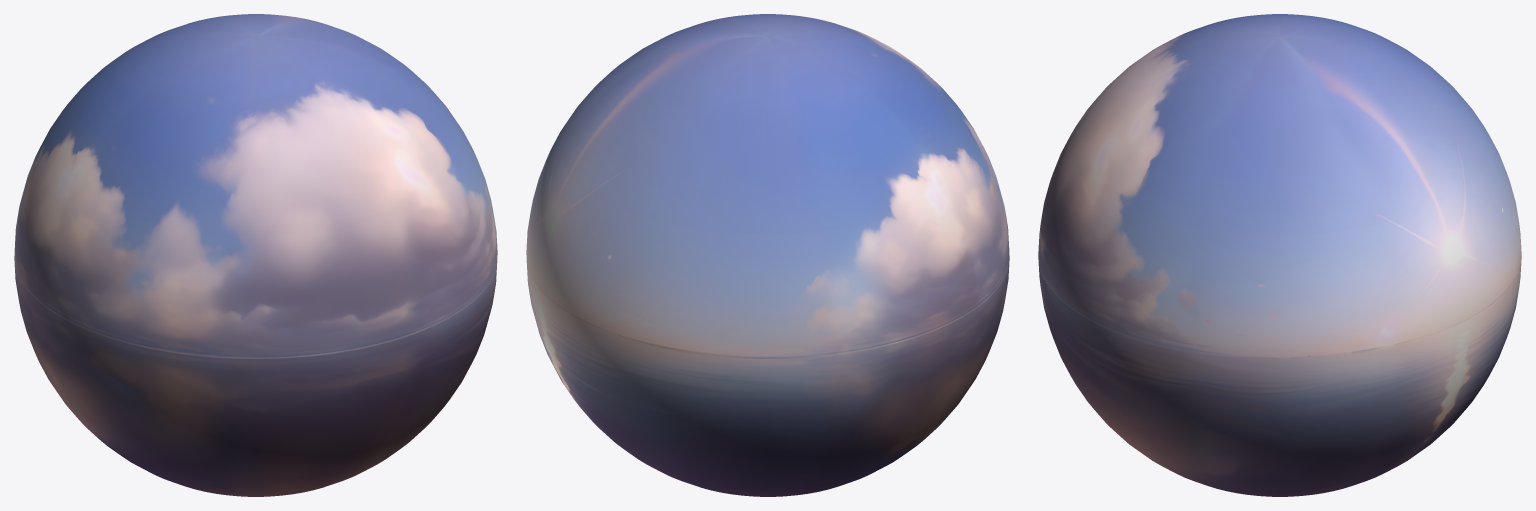
Rendered from skybox.obj.
The picture shows the model from 3 angles, left to right: view 1: azimuth 30°, elevation 25°; view 2: azimuth 150°, elevation 25°; view 3: azimuth 270°, elevation 25°; orthographic projection.
Visible parts, largest first — view 1: Sphere; view 2: Sphere; view 3: Sphere.
Part boxes in pixels (box(x1,y1,x2,y2)): Sphere: box(14, 14, 497, 496); Sphere: box(526, 14, 1009, 496); Sphere: box(1038, 14, 1521, 496).
Bounding box in the file's own units: 2 × 2 × 2.
Materials: 1 (1 with a texture image).
